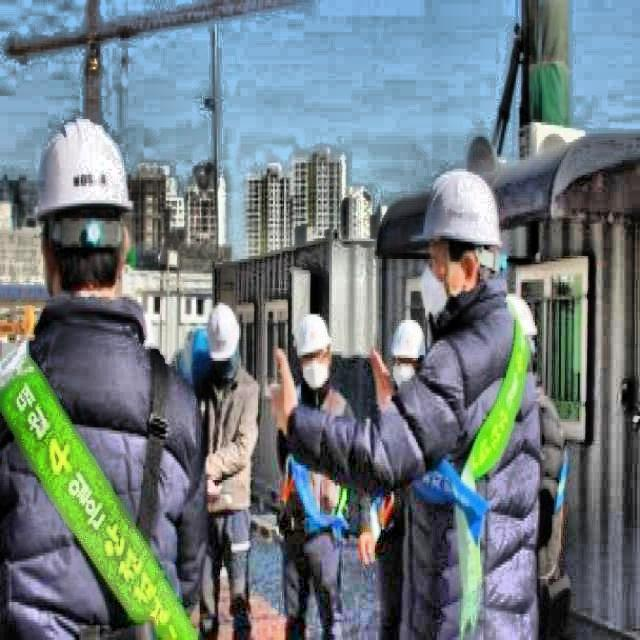bull_dozer/loader/grader: (3, 0, 303, 124)
person: (269, 170, 542, 640), (0, 114, 208, 640), (276, 312, 361, 640), (361, 316, 428, 640), (508, 296, 570, 640), (199, 300, 260, 640)
